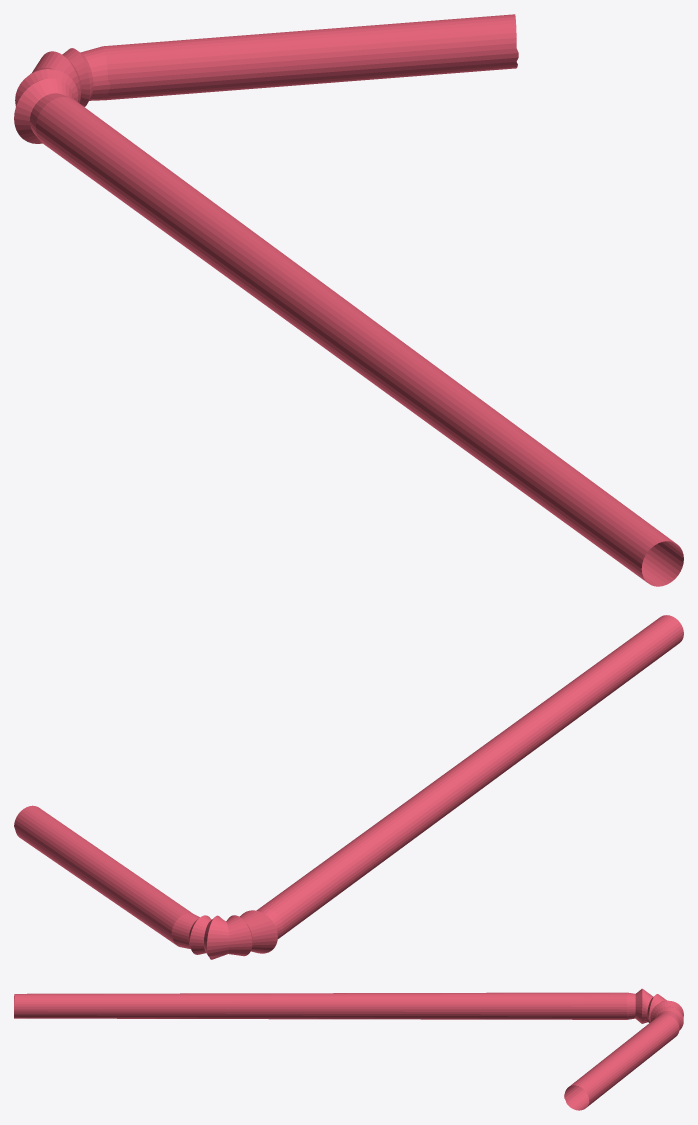
File: PlasticStraw.fbx
3 views of the same model, one above another, from view 1: azimuth 30°, elevation 25°; view 2: azimuth 150°, elevation 25°; view 3: azimuth 270°, elevation 25° (orthographic). The views are drawn at different scales.
Parts seen in each view (by area): view 1: Cylinder; view 2: Cylinder; view 3: Cylinder.
Boxes of the visible parts, x1=… form: Cylinder: x1=14, y1=14, x2=683, y2=586; Cylinder: x1=14, y1=615, x2=683, y2=959; Cylinder: x1=14, y1=988, x2=683, y2=1110.
Bounding box in the file's own units: 768 × 121 × 1958.
